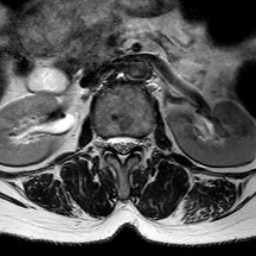CCS_normal: (117, 125, 127, 172)
LFS_stenosis: (137, 125, 148, 157)
LLS_normal: (127, 126, 138, 158)
RFS_normal: (97, 125, 106, 159)
RLS_normal: (106, 126, 117, 158)
